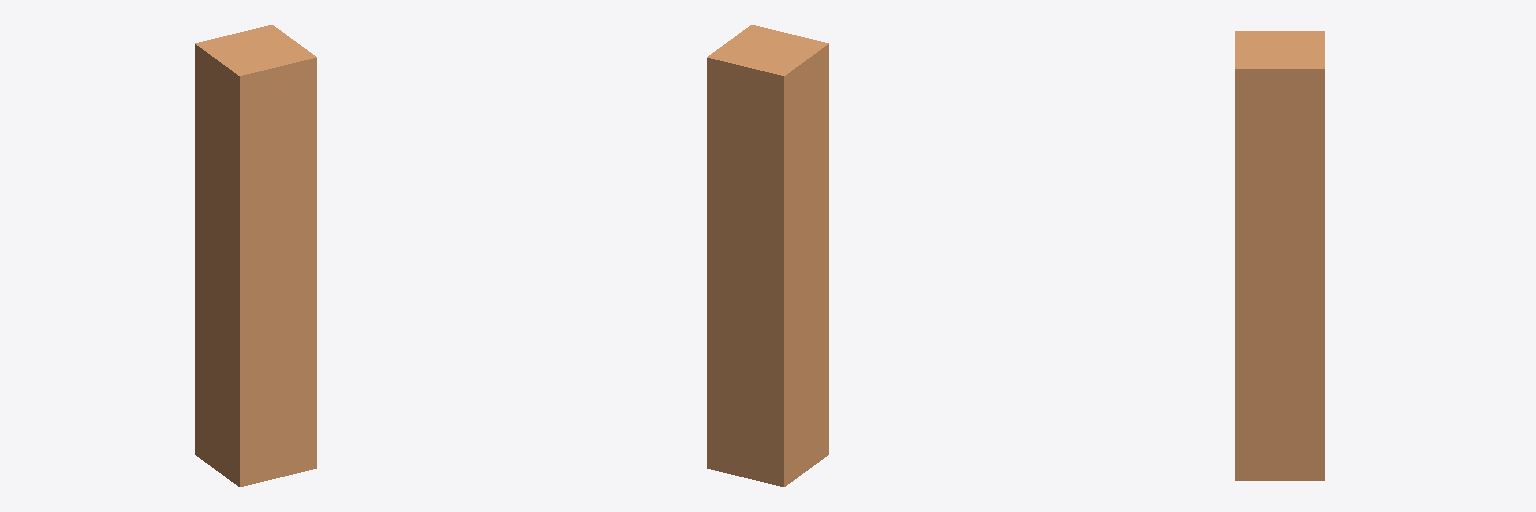
The picture shows the model from 3 angles: view 1: azimuth 30°, elevation 25°; view 2: azimuth 150°, elevation 25°; view 3: azimuth 270°, elevation 25°; orthographic projection.
Parts seen in each view (by area): view 1: object 1; view 2: object 1; view 3: object 1.
Part boxes in pixels (bbox=[...]): object 1: bbox=[195, 25, 316, 486]; object 1: bbox=[707, 25, 828, 486]; object 1: bbox=[1235, 31, 1324, 480].
Size of the model in its own units: 1.8 by 9.1 by 1.8.
Materials: 1 (1 with a texture image).